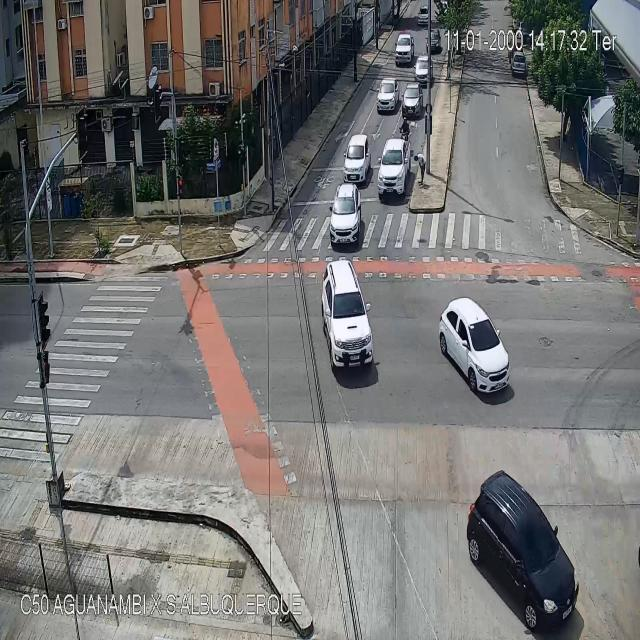Car: (468, 472, 576, 628), (440, 298, 511, 394), (322, 259, 375, 370), (329, 185, 362, 244), (378, 137, 407, 198), (345, 131, 370, 188), (398, 81, 426, 117), (377, 76, 399, 108), (396, 33, 413, 63), (416, 54, 431, 82), (425, 28, 441, 54), (511, 52, 527, 78), (418, 4, 432, 23)
Motorcycle: (400, 116, 413, 148)
